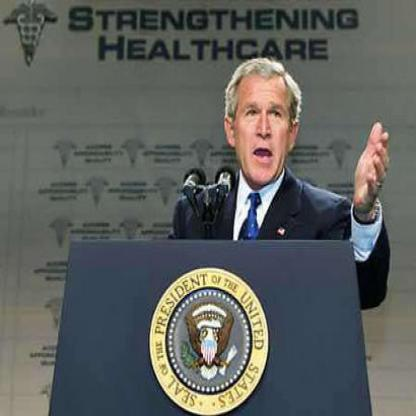face: (235, 64, 295, 186)
